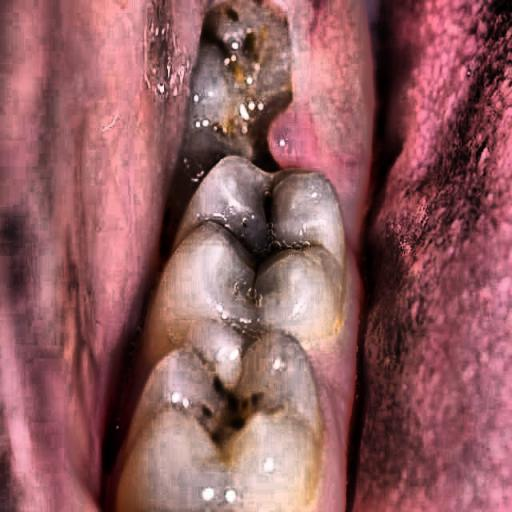Caries: (148, 337, 304, 474), (192, 156, 332, 304), (200, 4, 318, 162)
